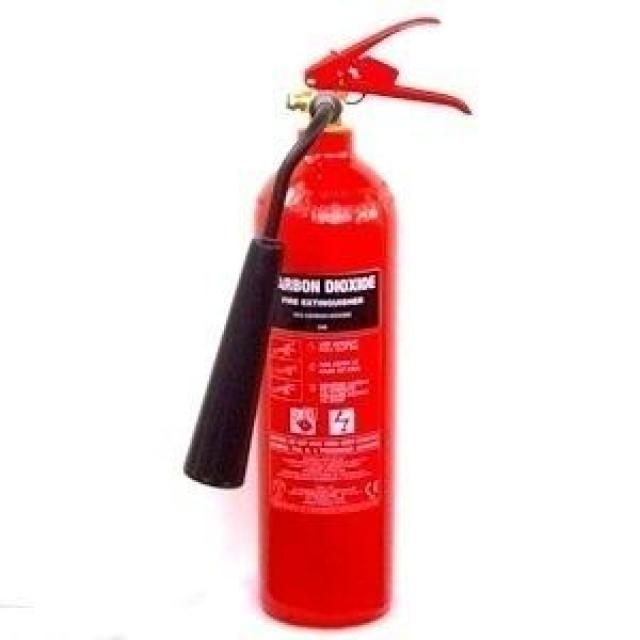fire_extinguisher: (175, 12, 476, 630)
